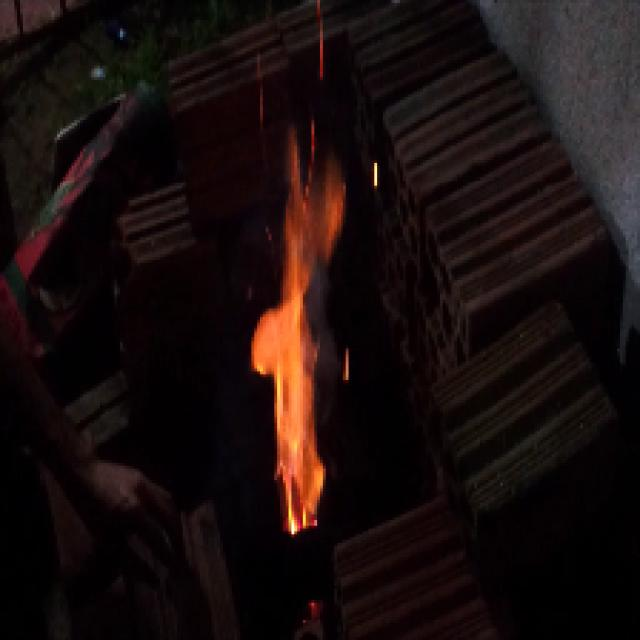fire: (256, 144, 349, 528)
